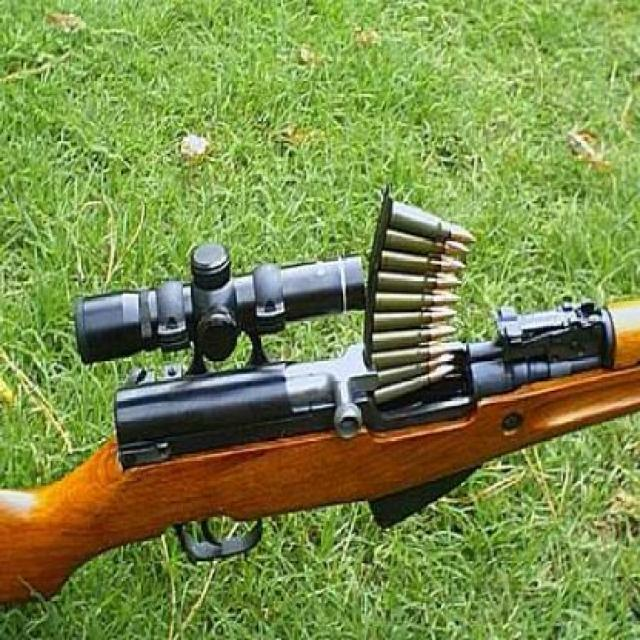weapon: (0, 187, 640, 599)
